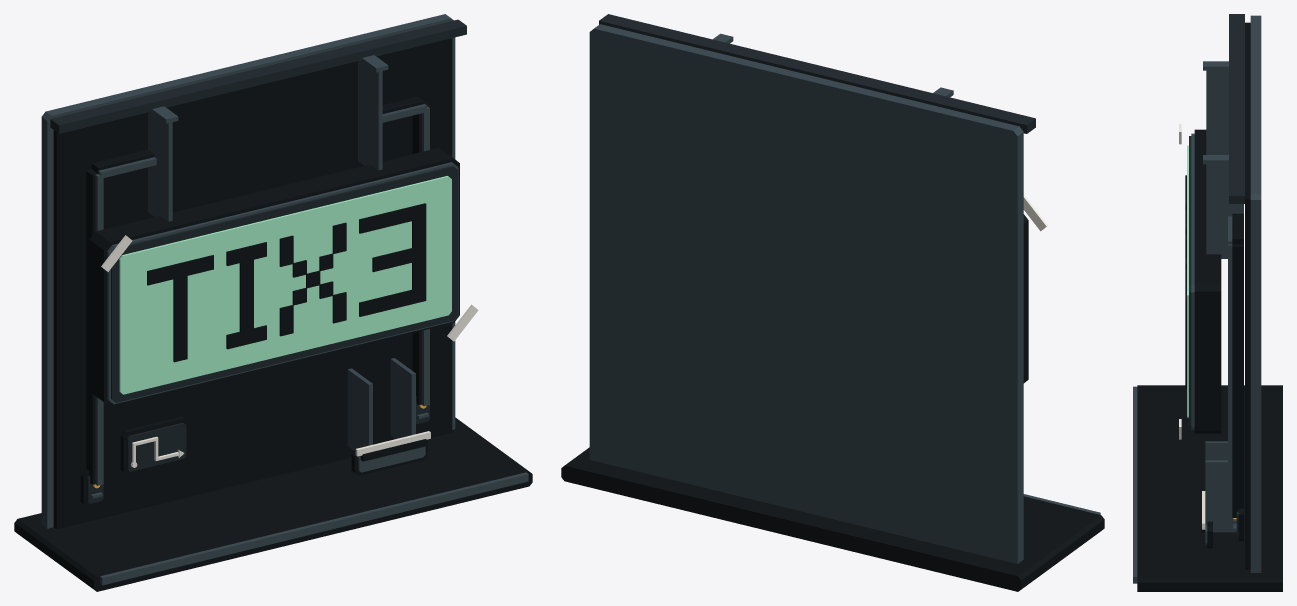
3 renders of one model, left to right at view 1: azimuth 30°, elevation 25°; view 2: azimuth 150°, elevation 25°; view 3: azimuth 270°, elevation 25°, orthographic. The views are drawn at different scales.
Visible parts, largest first — view 1: Exit Liquidity sign; view 2: Exit Liquidity sign; view 3: Exit Liquidity sign.
Boxes of the visible parts, x1,y1,x2,y2 form: Exit Liquidity sign: (14,14,532,591); Exit Liquidity sign: (561,14,1104,591); Exit Liquidity sign: (1133,14,1282,591).
Bounding box in the file's own units: 1.08 × 1 × 0.3475.
